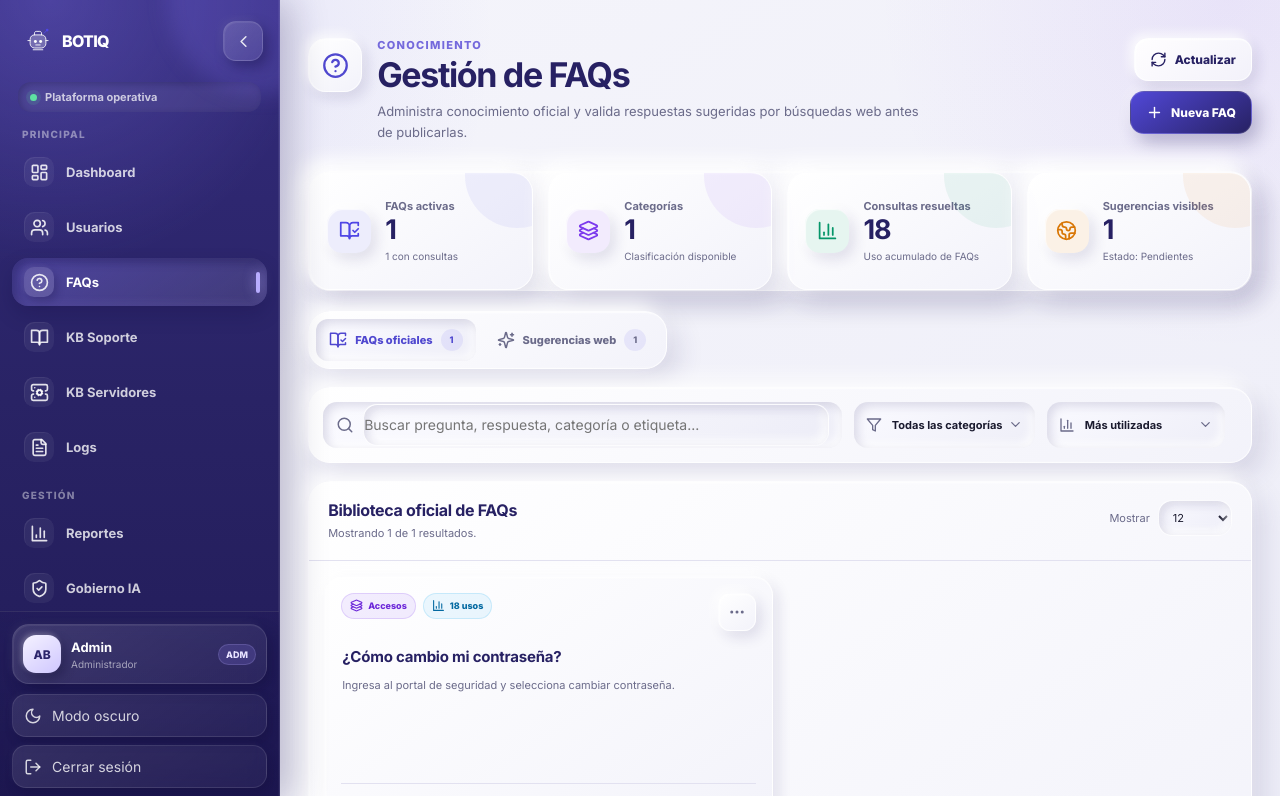
Test: FaqsPage profesional › cambia a sugerencias web
Expected: the heading "¿Cómo cambio mi contraseña?" is shown, [342,647,562,666]
Click the button "Sugerencias web 1" at (571, 340), box [484,319,659,361]
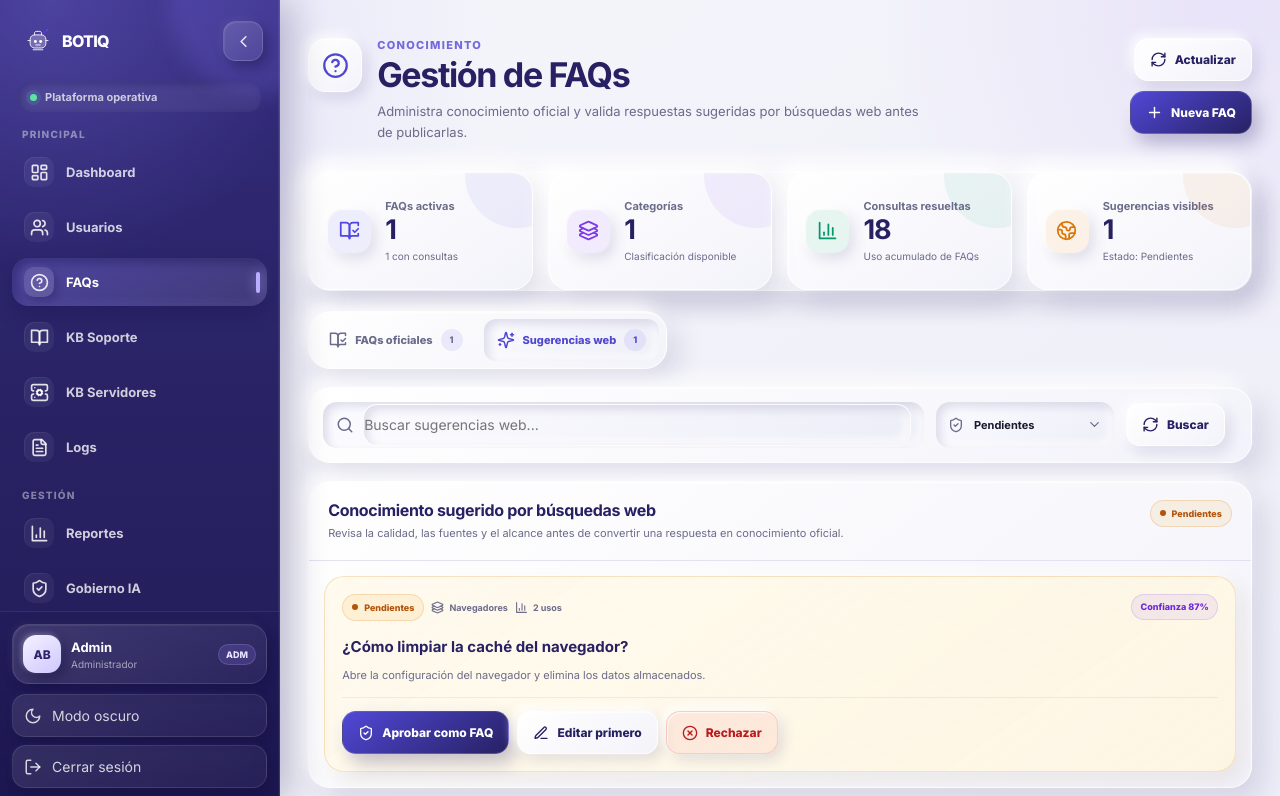
Expected: the heading "¿Cómo limpiar la caché del navegador?" is shown, [342,637,628,656]
